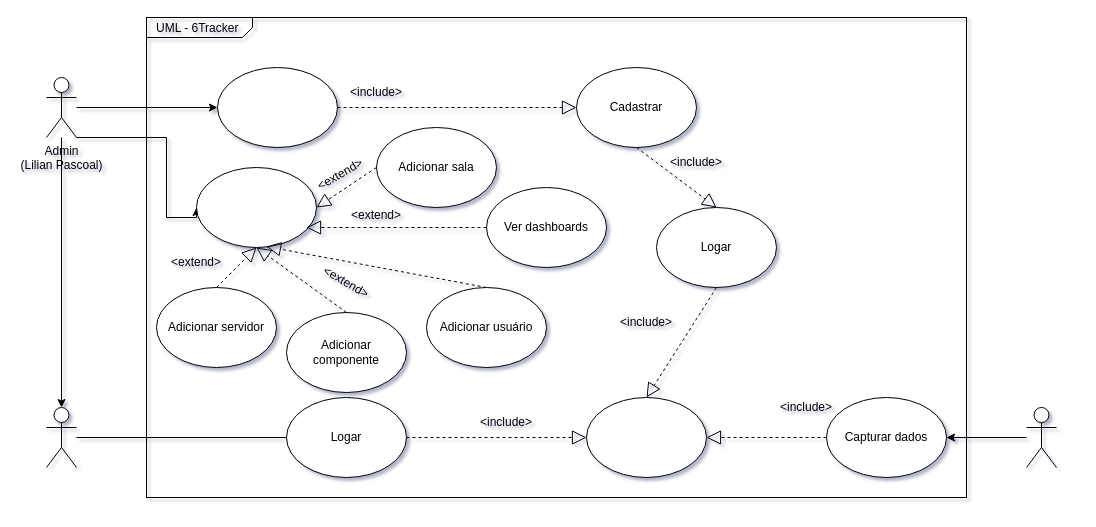
Image size: 1096x527. Some labels were removed from this diagram. The centre of each missing label's shape, as x and y in pixels:
Acessar o sistema: the point at 277,107
Analista (Clinger Silvério): the point at 61,437
Dashboard Principal: the point at 256,207
Script kotlin e python: the point at 1041,437
Área do usuário (Dashboard): the point at 646,437
